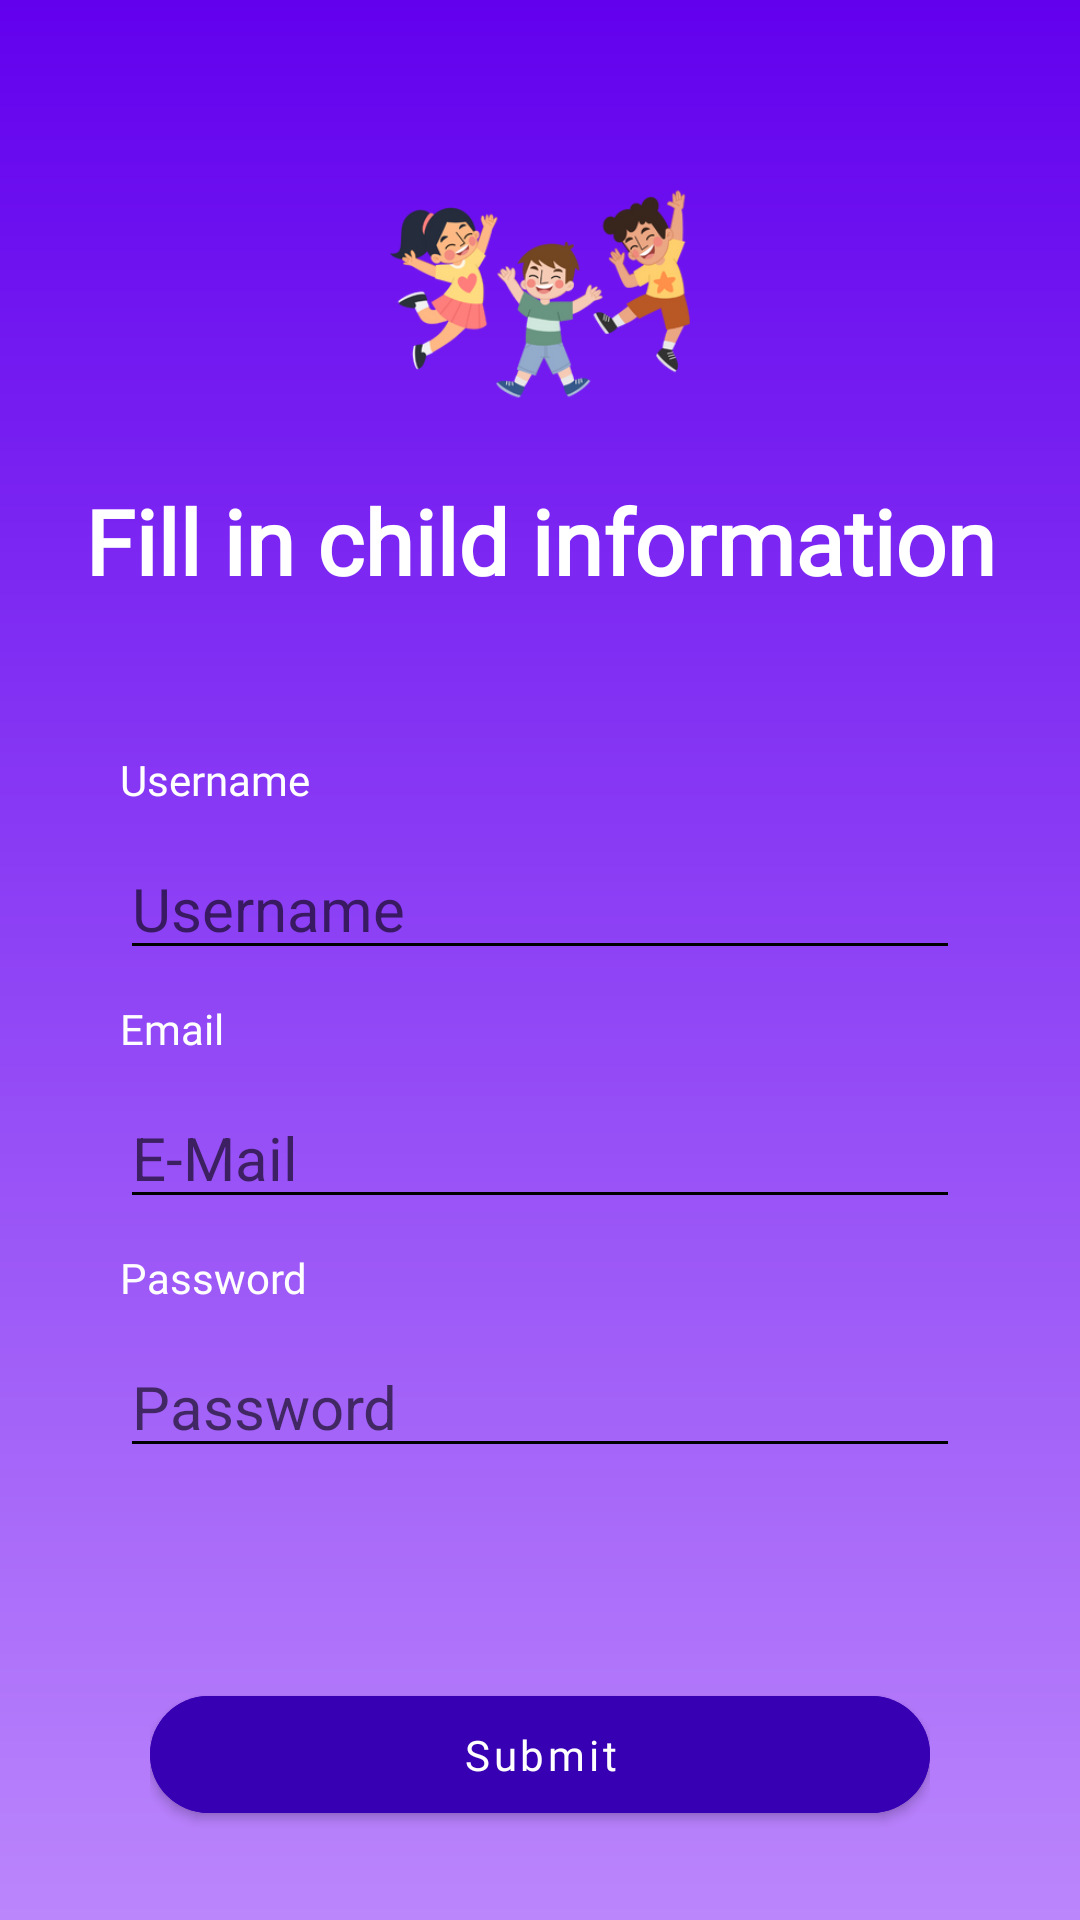

Icons on this 1080 x 1920 Android screen, each with its box as [x1=x1, y1=y1, x2=x2, y2=y2]:
children: [x1=390, y1=150, x2=690, y2=398]
